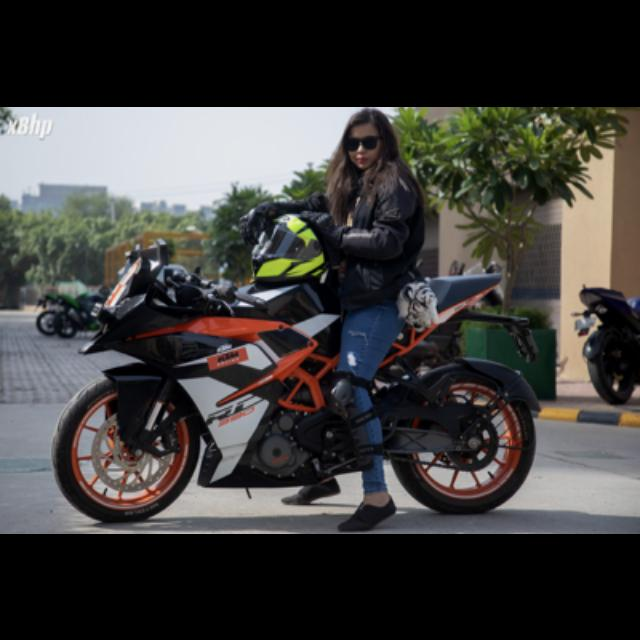Without Helmet: (334, 107, 402, 173)
